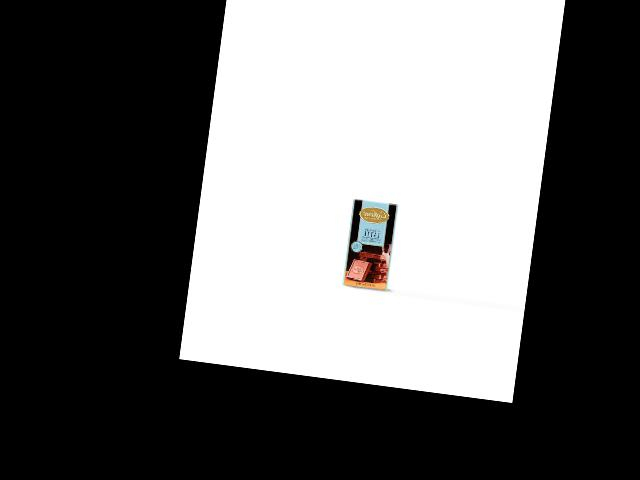chocolate: (341, 197, 400, 292)
